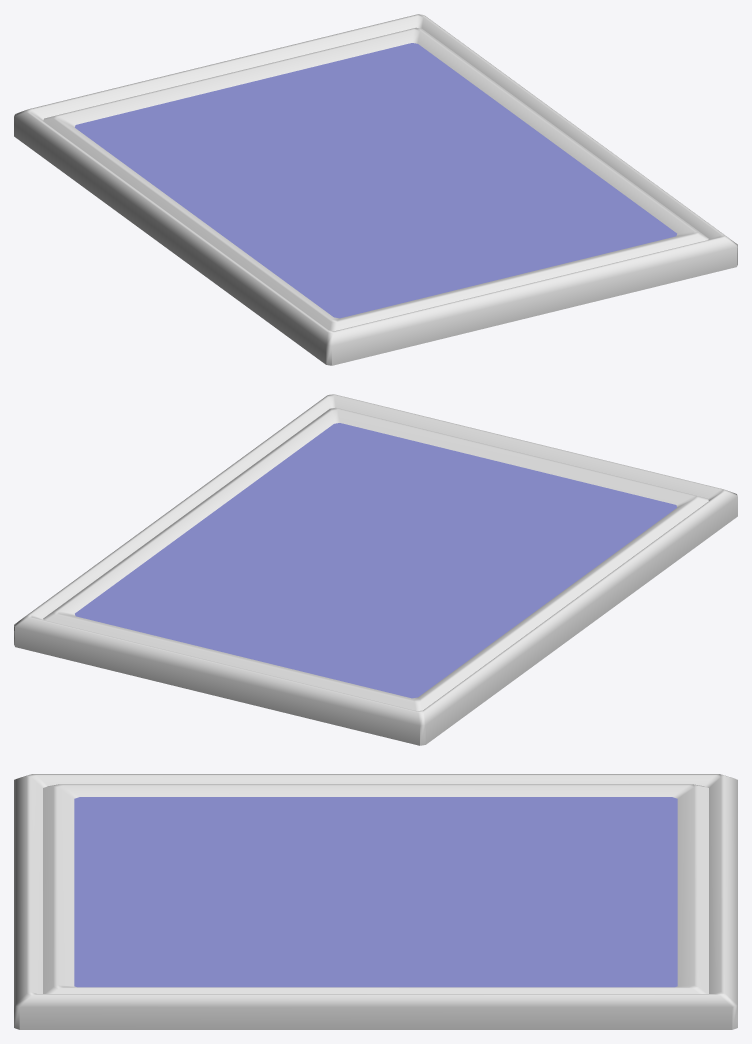
Rendered from PaintingB.fbx.
3 views of the same model, one above another, from view 1: azimuth 30°, elevation 25°; view 2: azimuth 150°, elevation 25°; view 3: azimuth 270°, elevation 25° (orthographic). The views are drawn at different scales.
Parts seen in each view (by area): view 1: PaintingB; view 2: PaintingB; view 3: PaintingB.
Part boxes in pixels (x1,y1,x2,y2): PaintingB: (14,14,737,365); PaintingB: (14,394,737,745); PaintingB: (14,774,737,1029).
Bounding box in the file's own units: 53.98 × 3.36 × 71.97.
